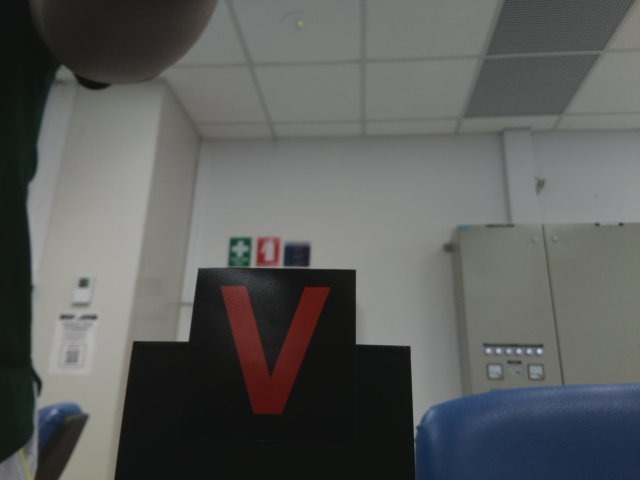v: (211, 278, 332, 418)
